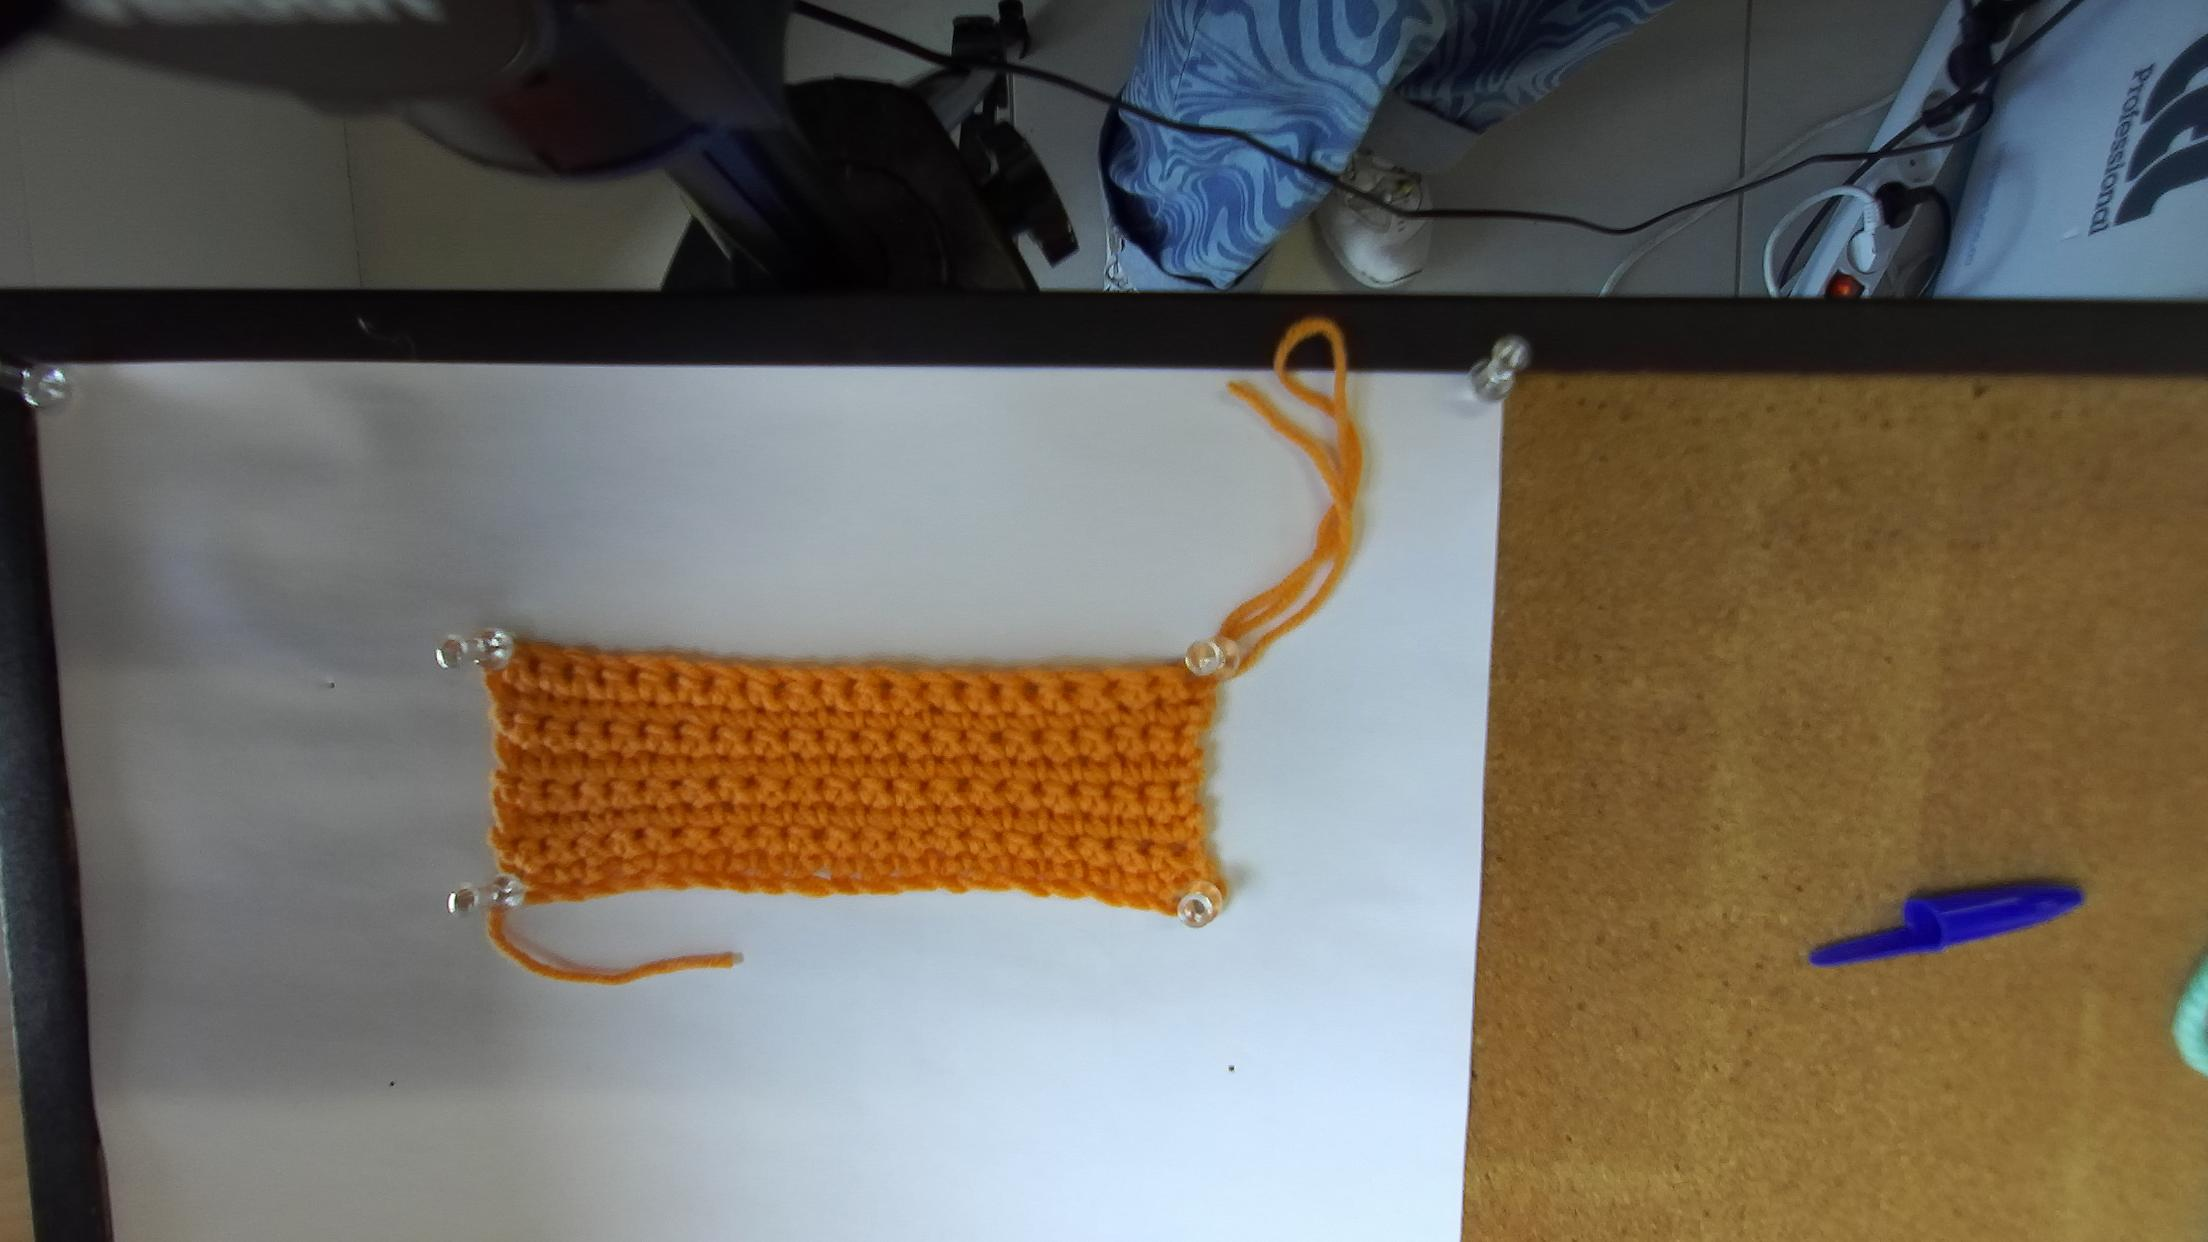hole: (626, 666, 641, 690), (842, 678, 857, 701), (1062, 681, 1081, 698), (666, 670, 679, 693), (528, 657, 544, 675), (952, 681, 969, 698), (563, 663, 576, 682), (699, 675, 713, 695), (593, 666, 605, 687), (772, 679, 787, 696), (914, 681, 928, 699), (1101, 681, 1119, 695), (881, 679, 893, 699), (1025, 681, 1039, 698), (810, 679, 822, 698), (990, 682, 1004, 698), (1148, 675, 1162, 690), (739, 675, 748, 696)
swatch: (478, 640, 1228, 930)
